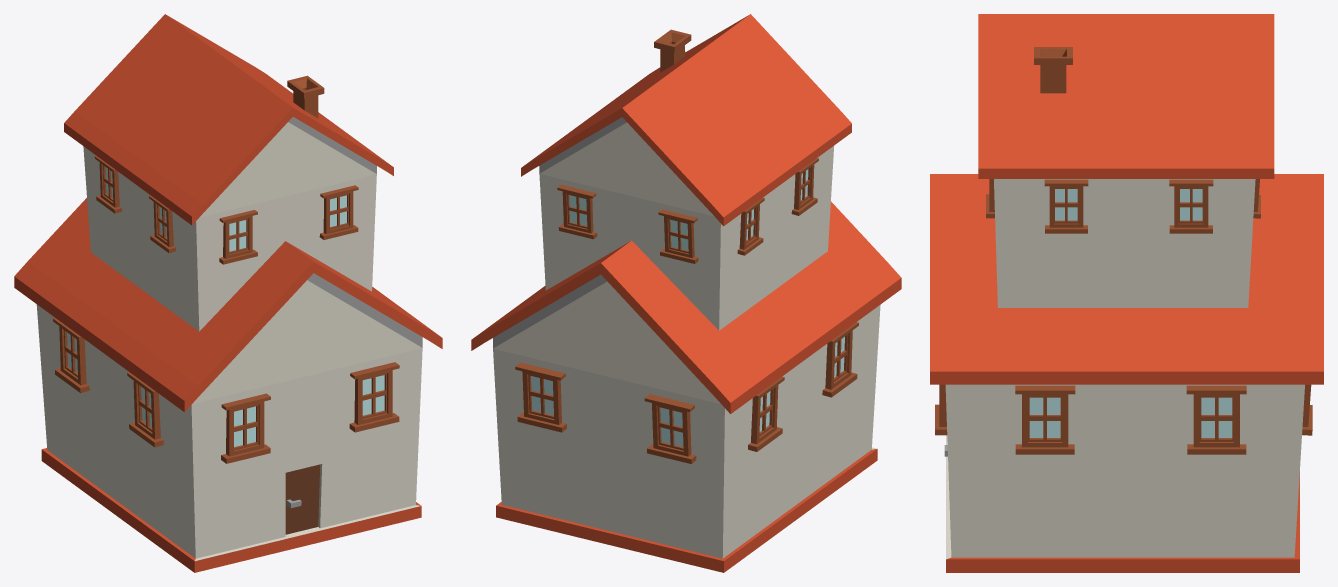
Rendered from house3.glb.
3 views of the same model, side by side, from view 1: azimuth 30°, elevation 25°; view 2: azimuth 150°, elevation 25°; view 3: azimuth 270°, elevation 25° (orthographic). The views are drawn at different scales.
Parts seen in each view (by area): view 1: House3; view 2: House3; view 3: House3.
Part boxes in pixels (x1,y1,x2,y2): House3: (14,14,442,572); House3: (471,14,901,572); House3: (930,14,1323,572).
Size of the model in its own units: 1.25 by 1.99 by 1.43.
Materials: 1 (1 with a texture image).
